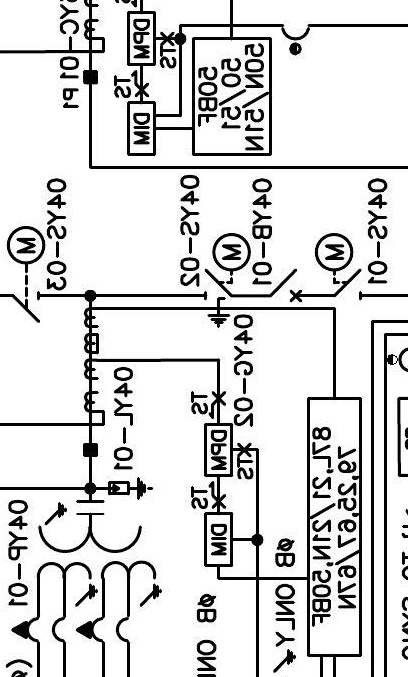115_1way_ds_w_motor: (6, 225, 46, 324), (314, 232, 362, 301)
115_3ways_ds_w_motor: (203, 232, 252, 329)
115_breaker: (269, 268, 302, 303)
115_cvt_1p: (11, 499, 163, 645)
115_la: (108, 476, 154, 501)
DIM: (126, 101, 156, 157), (204, 512, 234, 567)
DPM: (126, 10, 156, 67), (204, 423, 233, 477)
